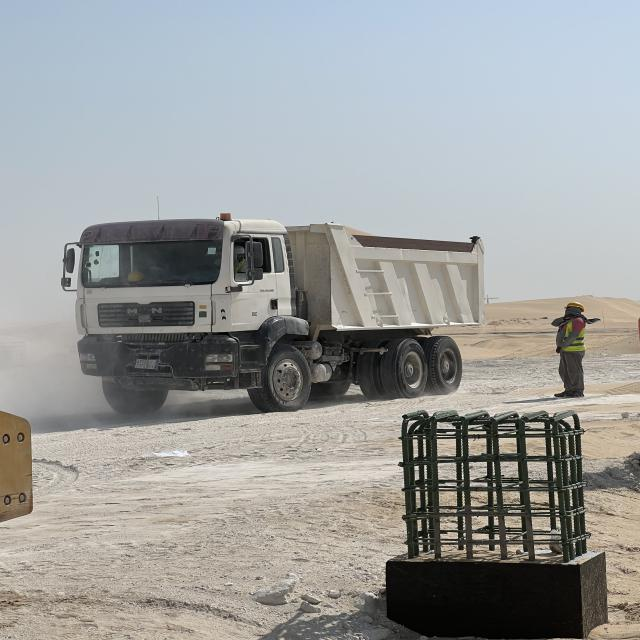dump_truck: (59, 205, 484, 413)
